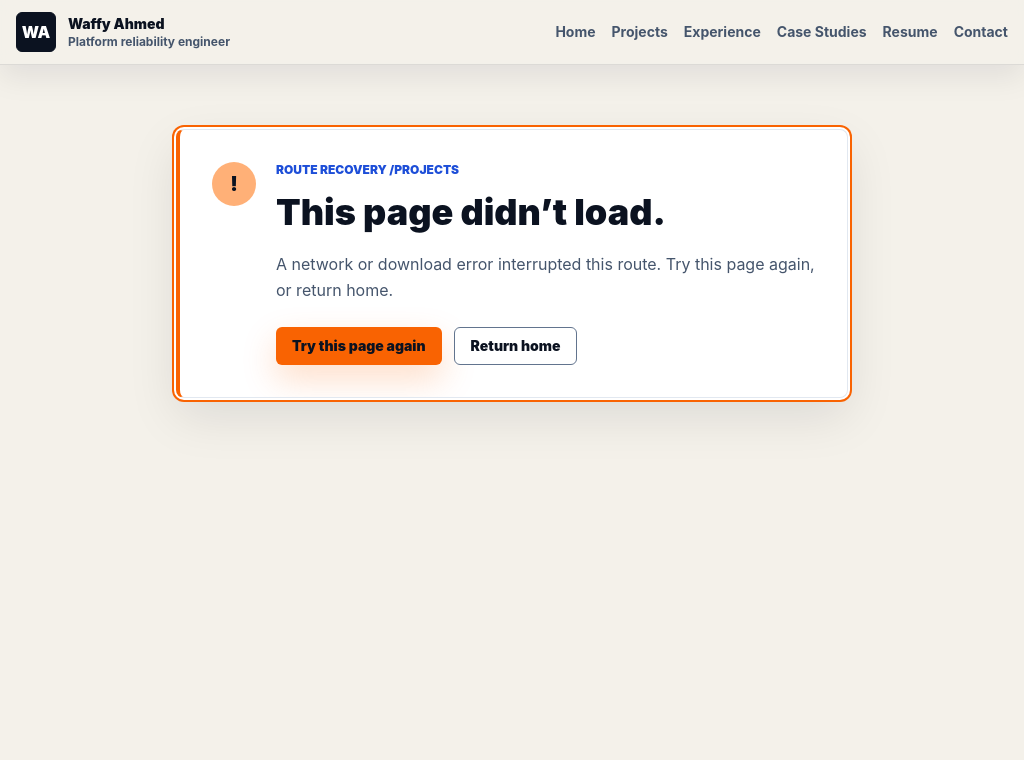
preserves the shell and recovers from a rejected lazy route
Expected: the navigation bar named "primary navigation" is shown, [555,23,1008,40]
Expected: the heading "This page didn’t load." is shown, [276,190,666,234]
Click the link "Return home" at [516, 346], box [454,327,578,365]
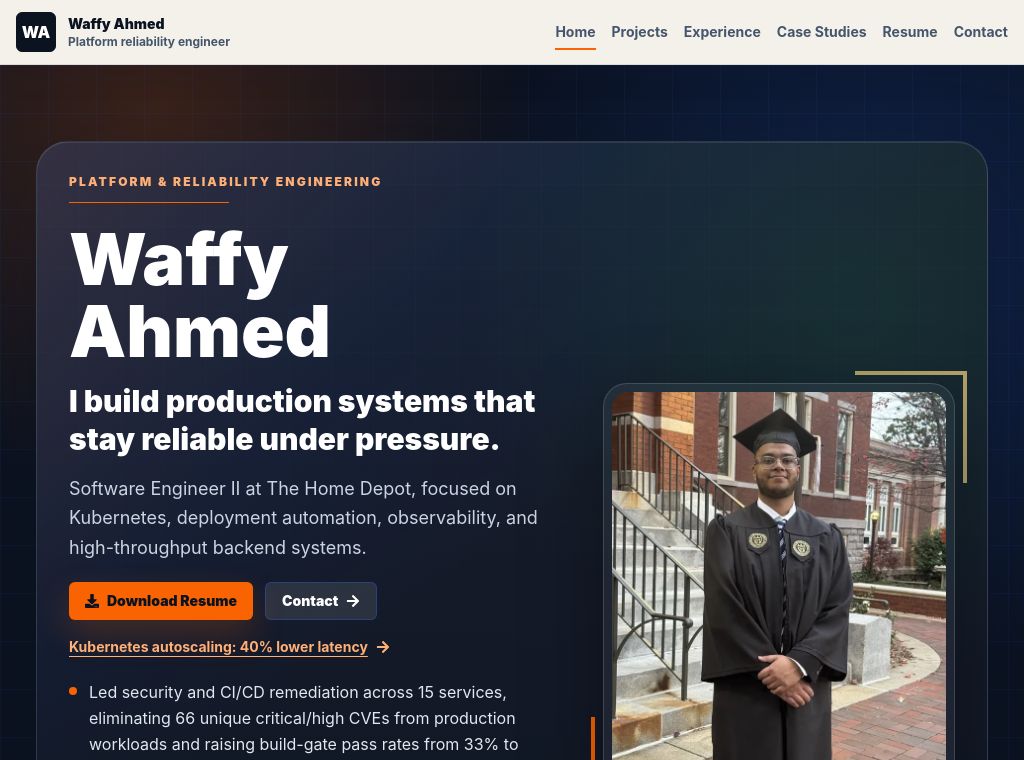
Expected: the heading "Waffy Ahmed" is shown, [69,215,331,374]
Expected: the message is gone
